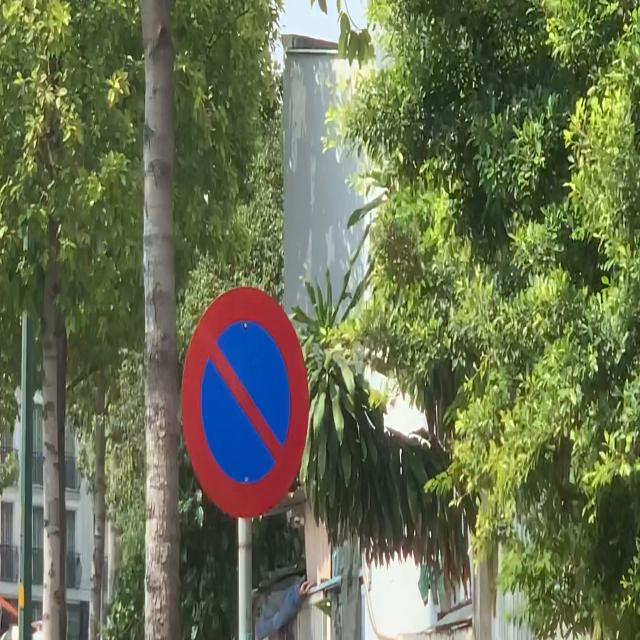Cam do: (180, 284, 310, 519)
